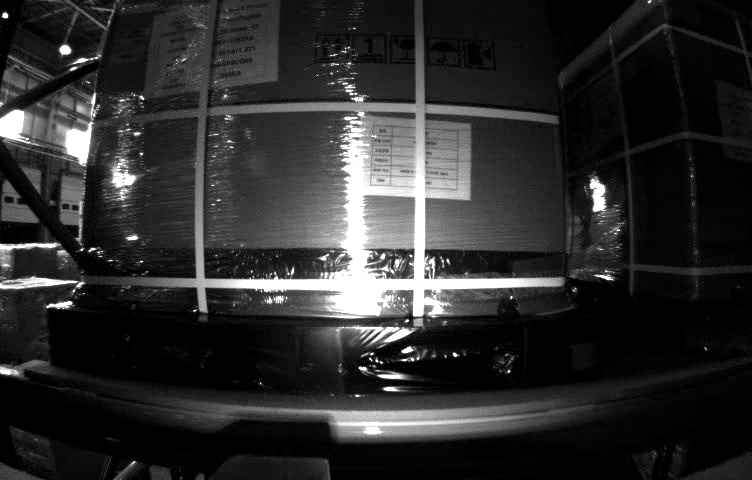True Barcode: (109, 28, 142, 63)
